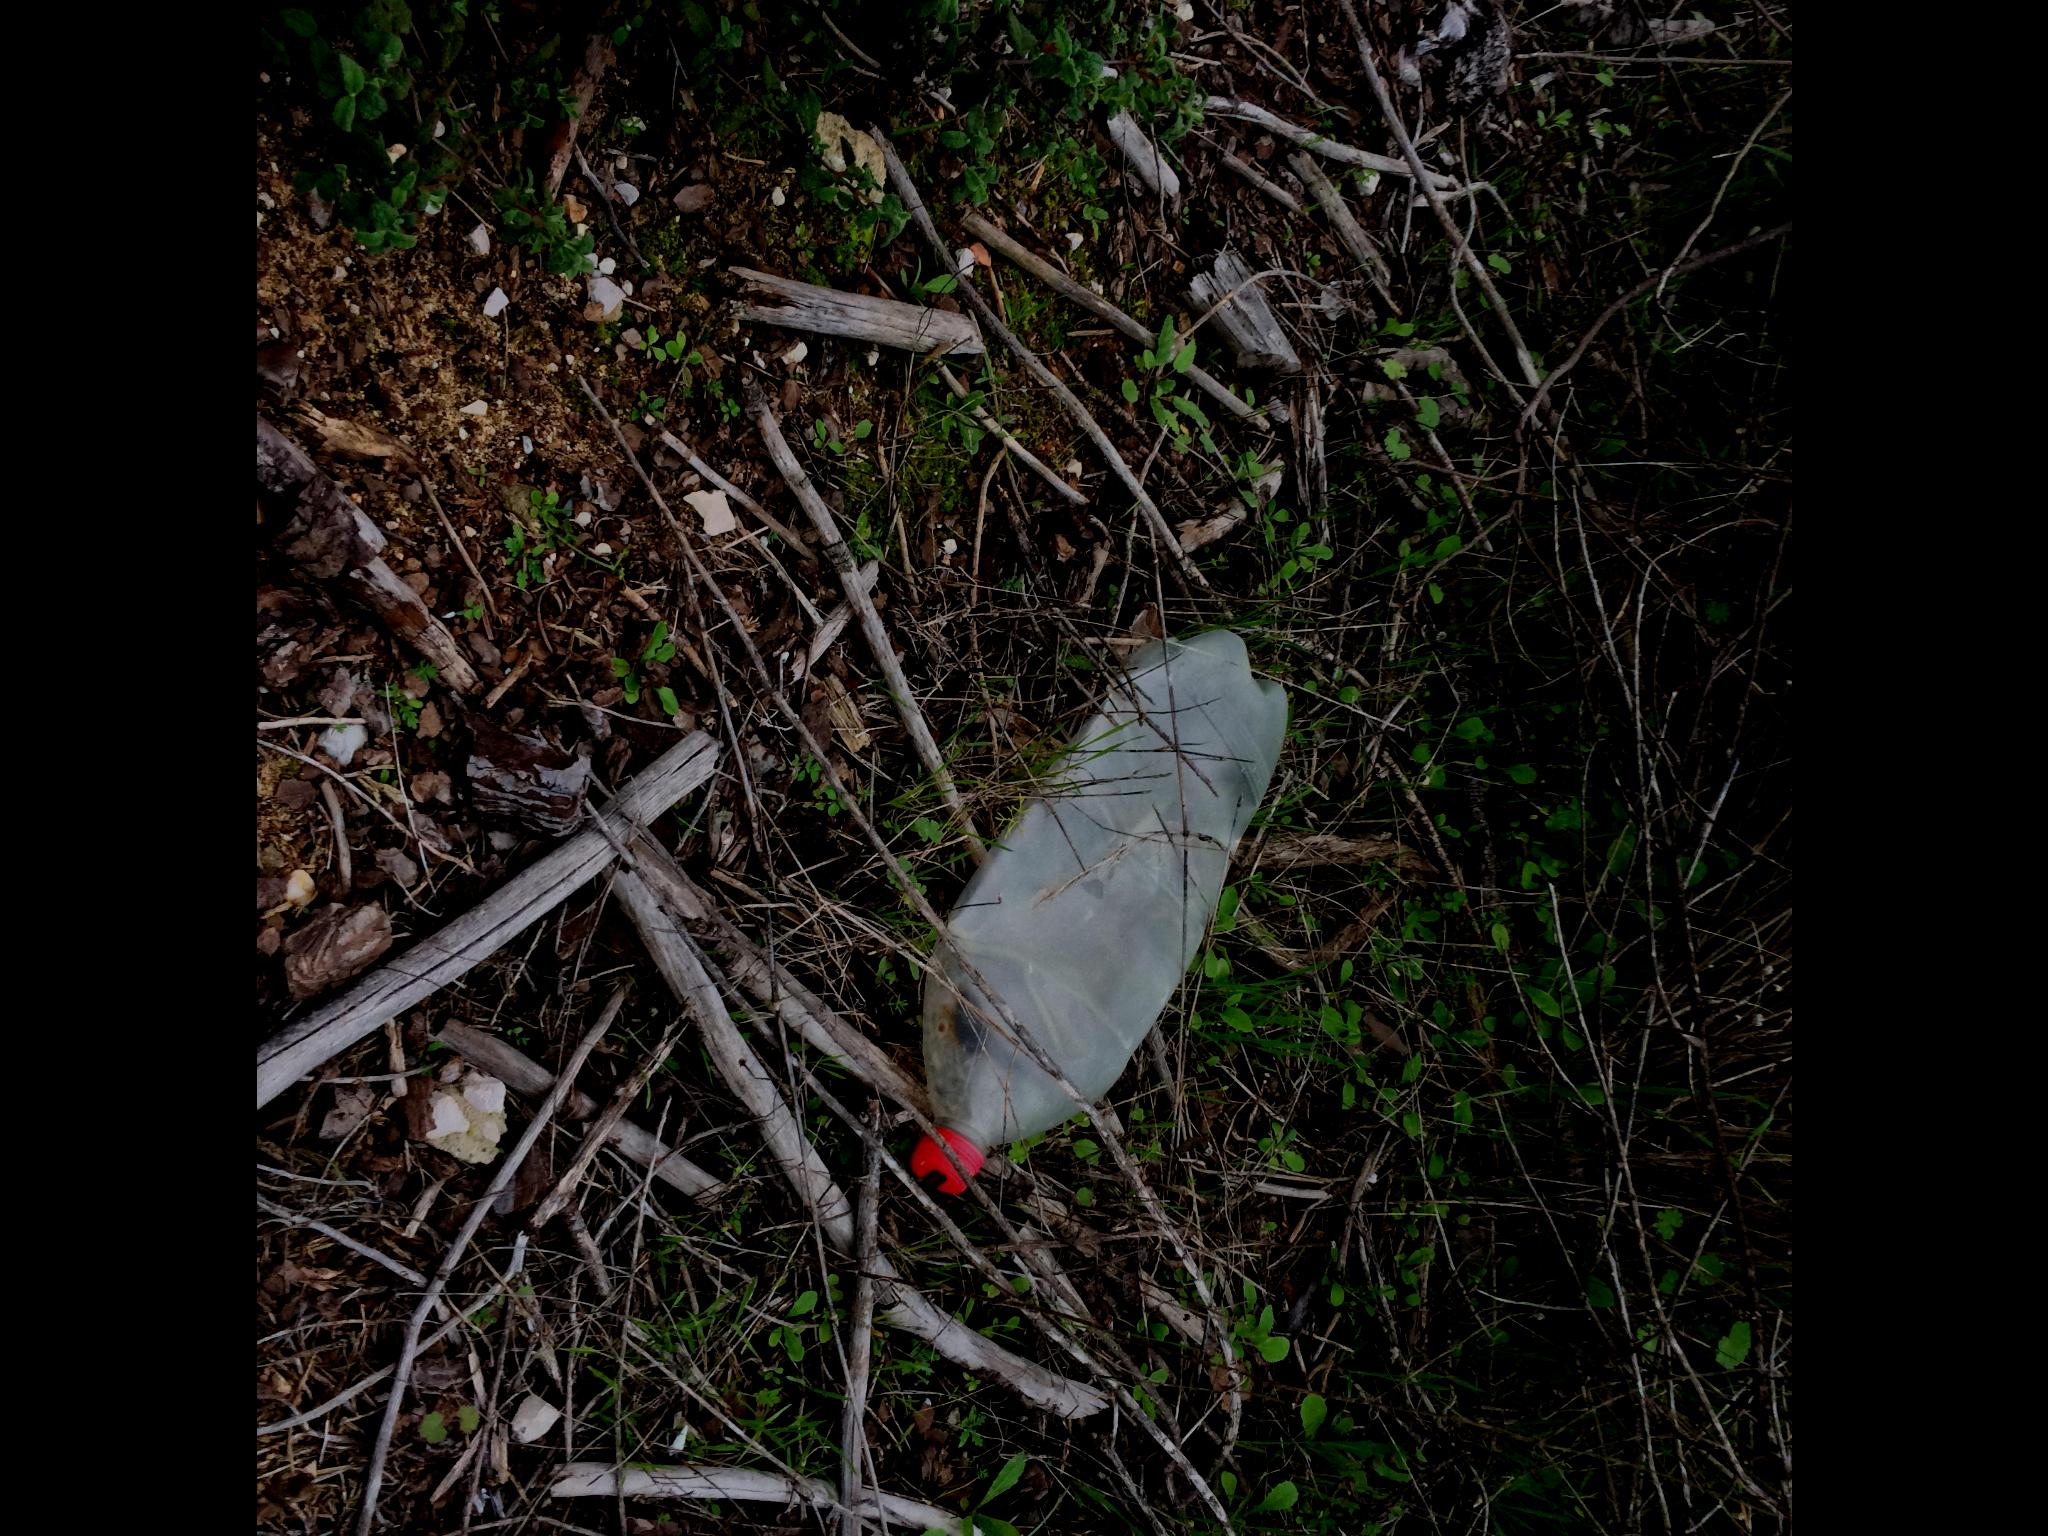bottle: (924, 624, 1312, 1208)
